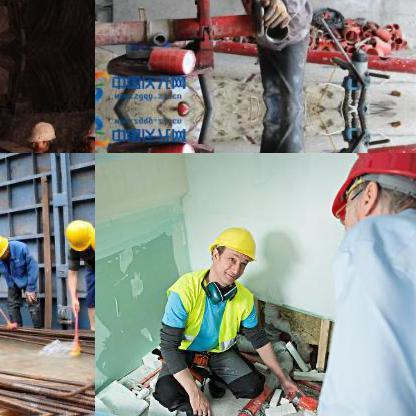Helmet: (315, 155, 415, 244), (204, 216, 262, 284), (63, 215, 94, 255), (28, 118, 57, 152), (79, 110, 94, 152), (0, 230, 11, 260)
